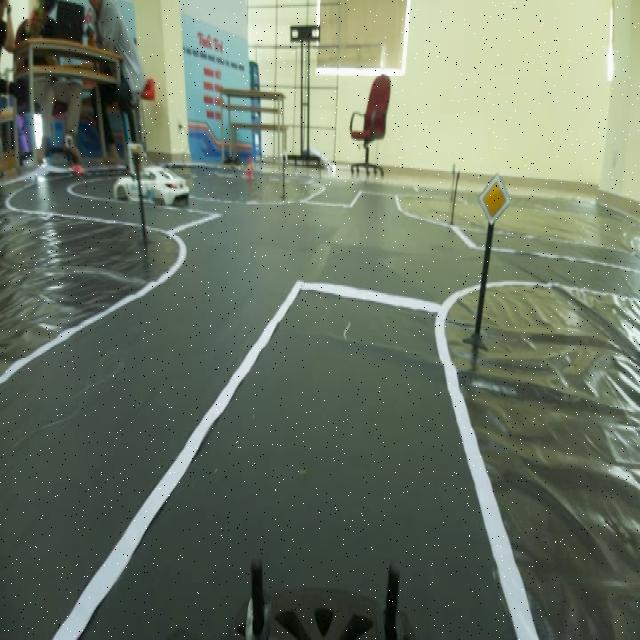priority: (475, 168, 511, 230)
